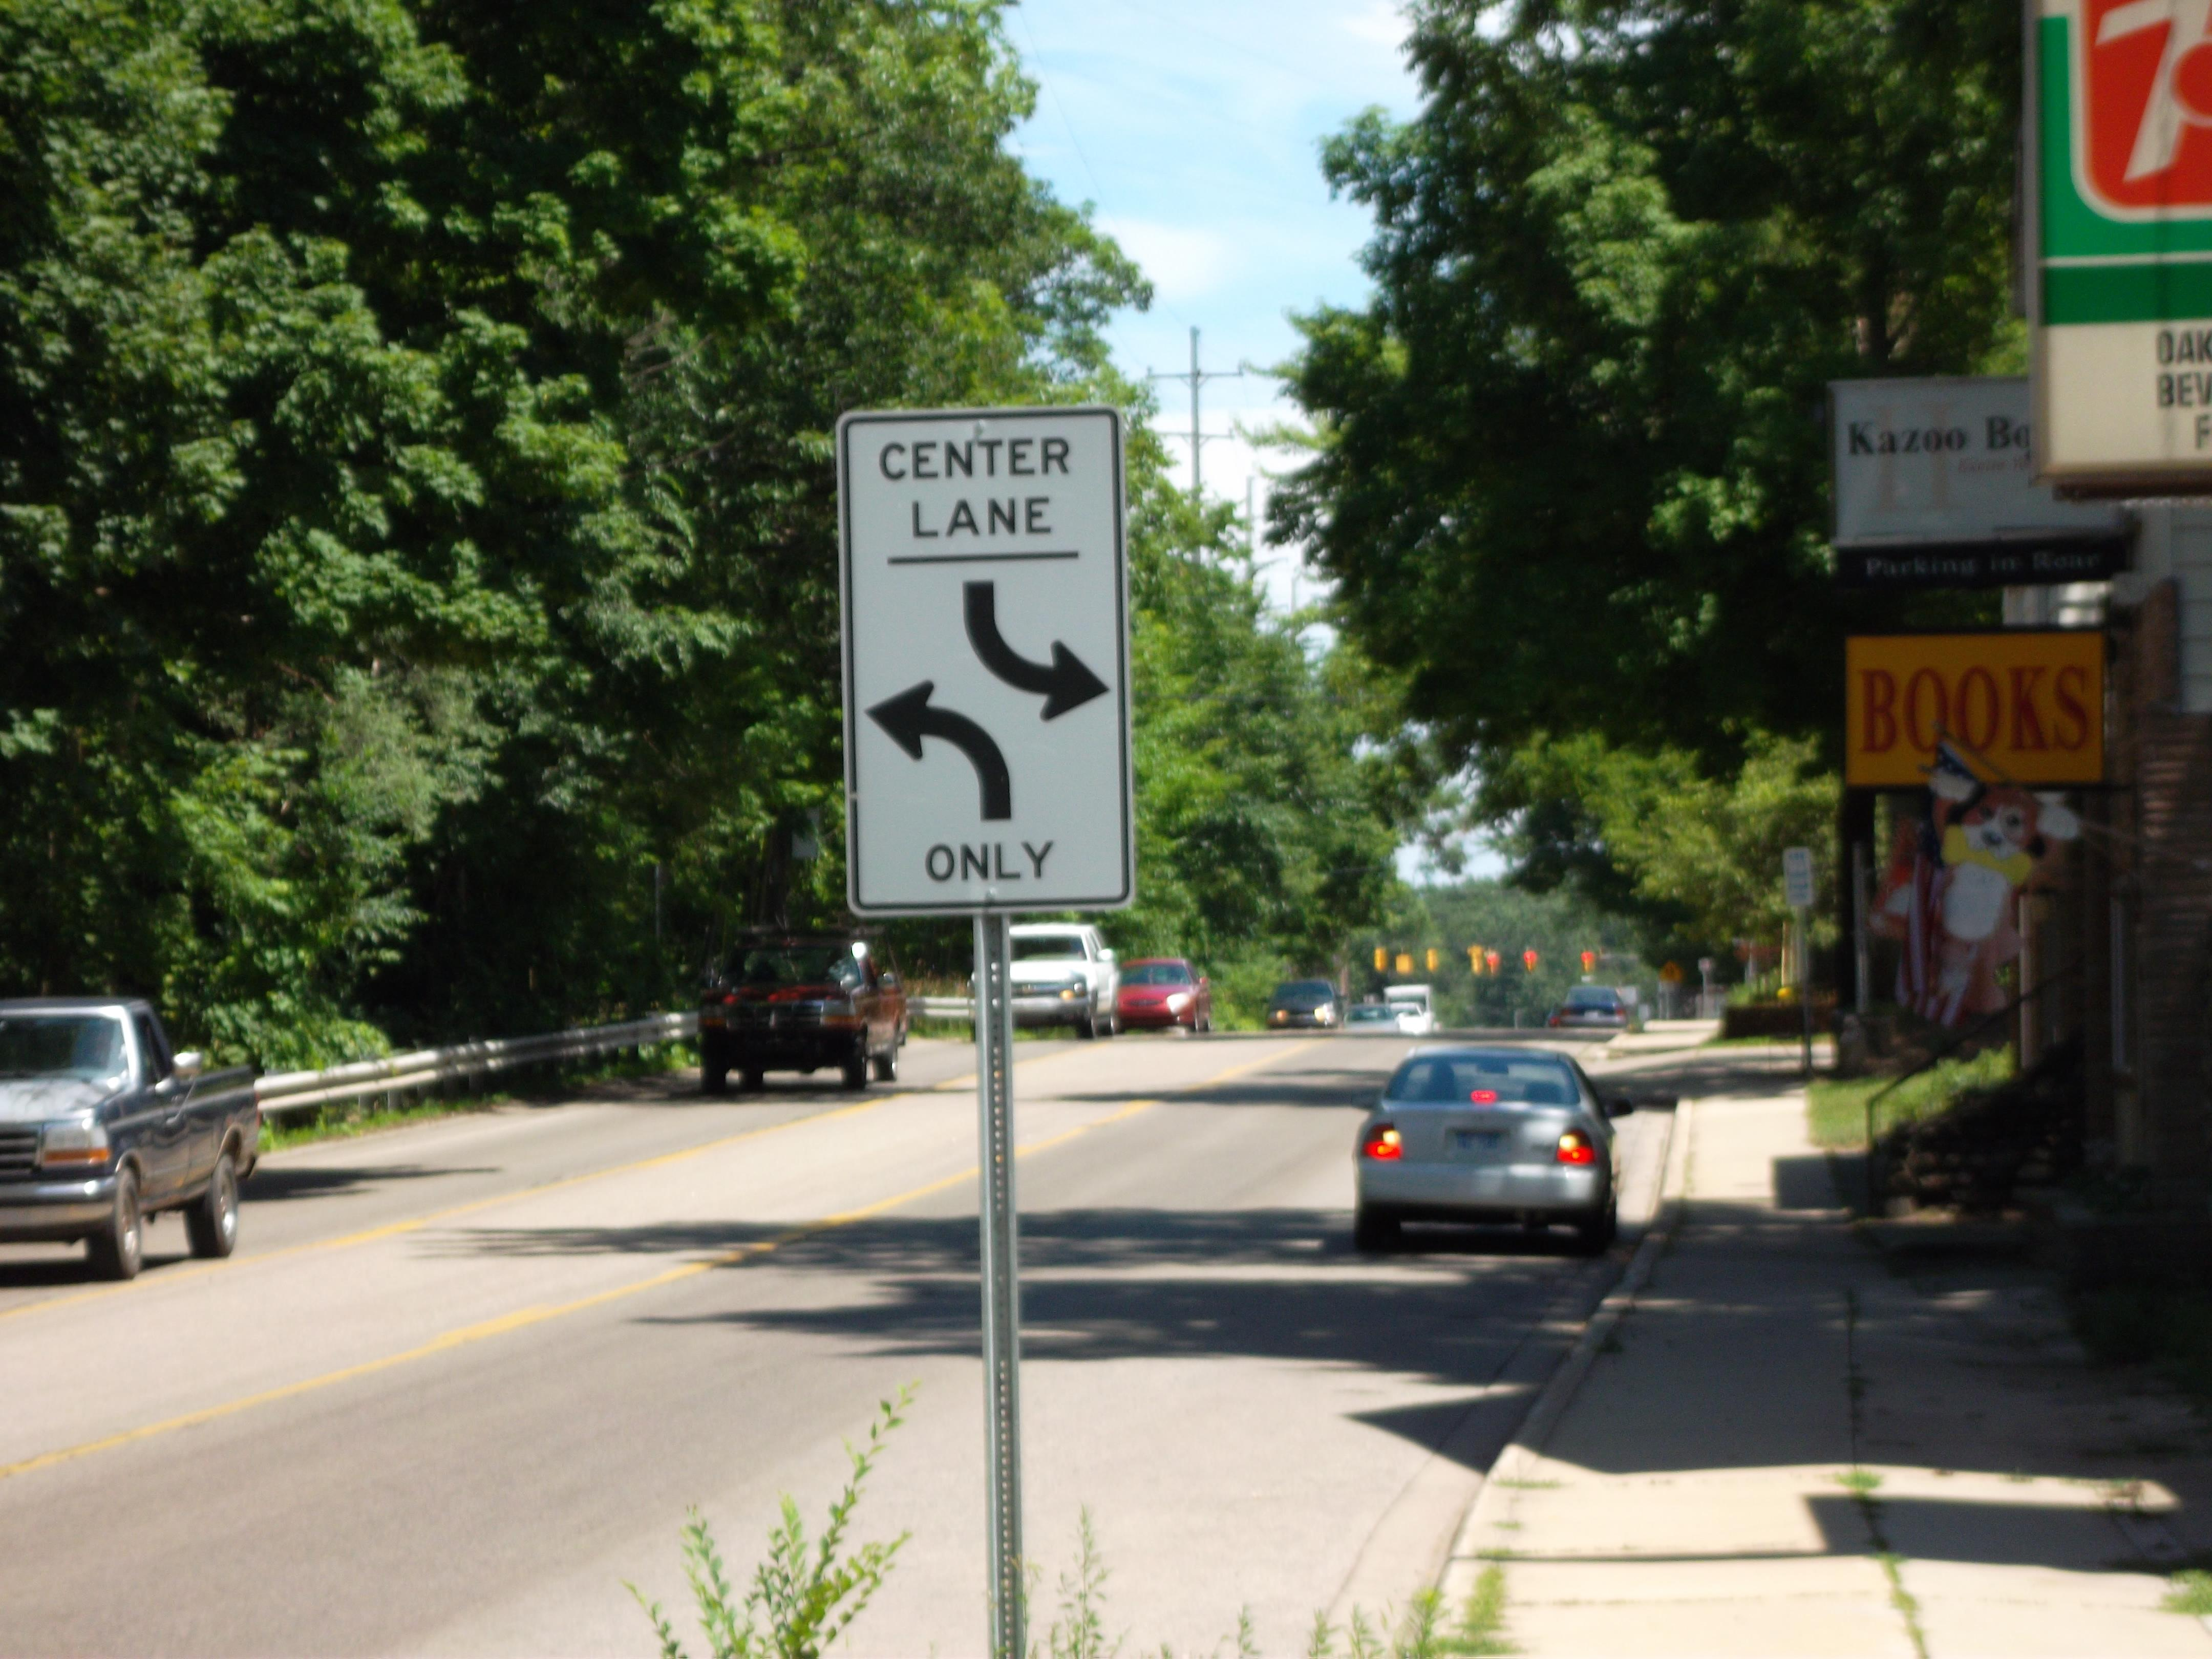regulatory: (831, 399, 1127, 927)
